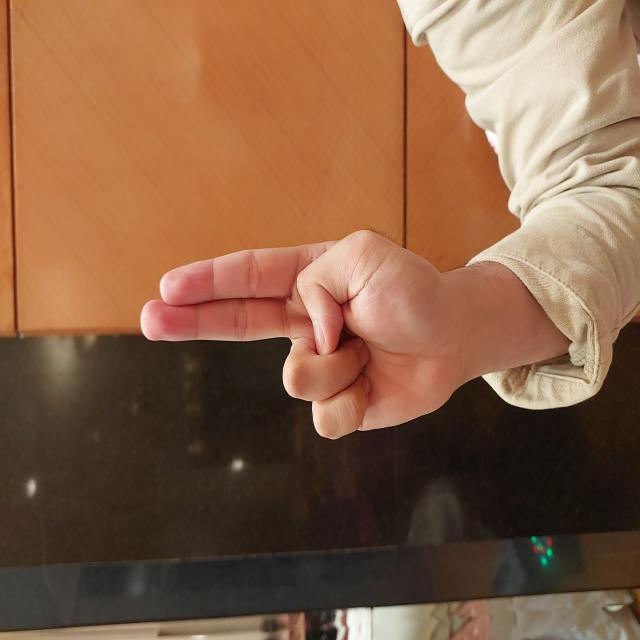U: (196, 138, 416, 466)
